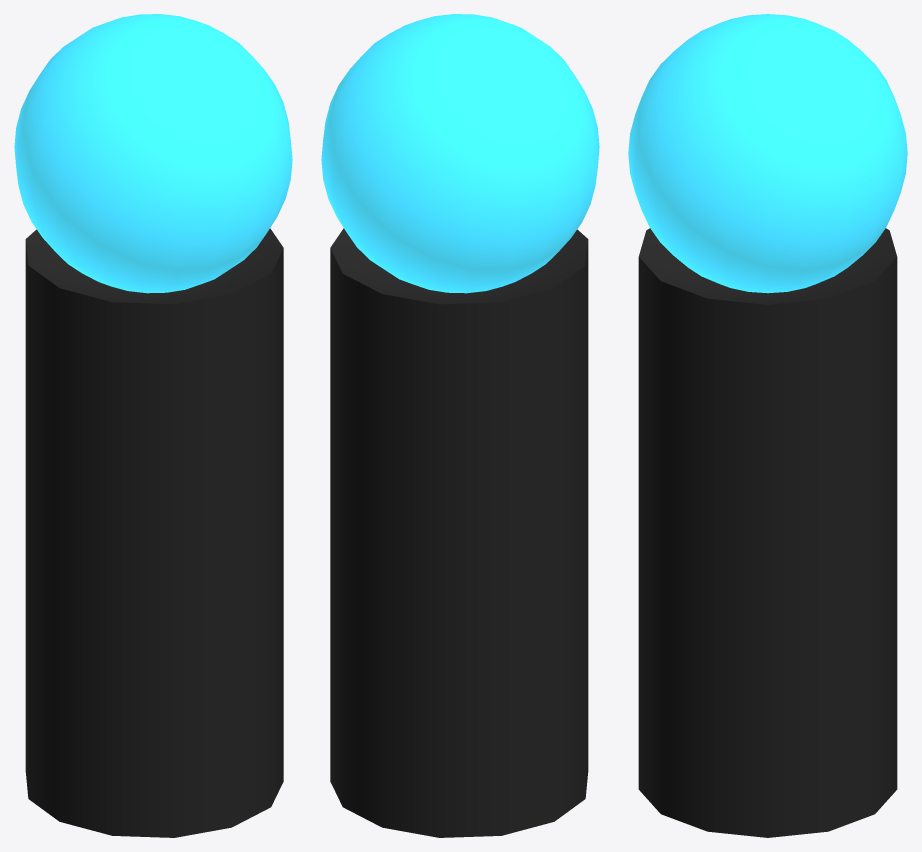
File: PlayController.fbx
The picture shows the model from 3 angles, left to right: view 1: azimuth 30°, elevation 25°; view 2: azimuth 150°, elevation 25°; view 3: azimuth 270°, elevation 25°; orthographic projection.
Visible parts, largest first — view 1: pSphere2; view 2: pSphere2; view 3: pSphere2.
Part boxes in pixels (x1,y1,x2,y2): pSphere2: (14, 14, 292, 837); pSphere2: (321, 14, 599, 837); pSphere2: (628, 14, 907, 837).
Size of the model in its own units: 2 by 5.97 by 2.
